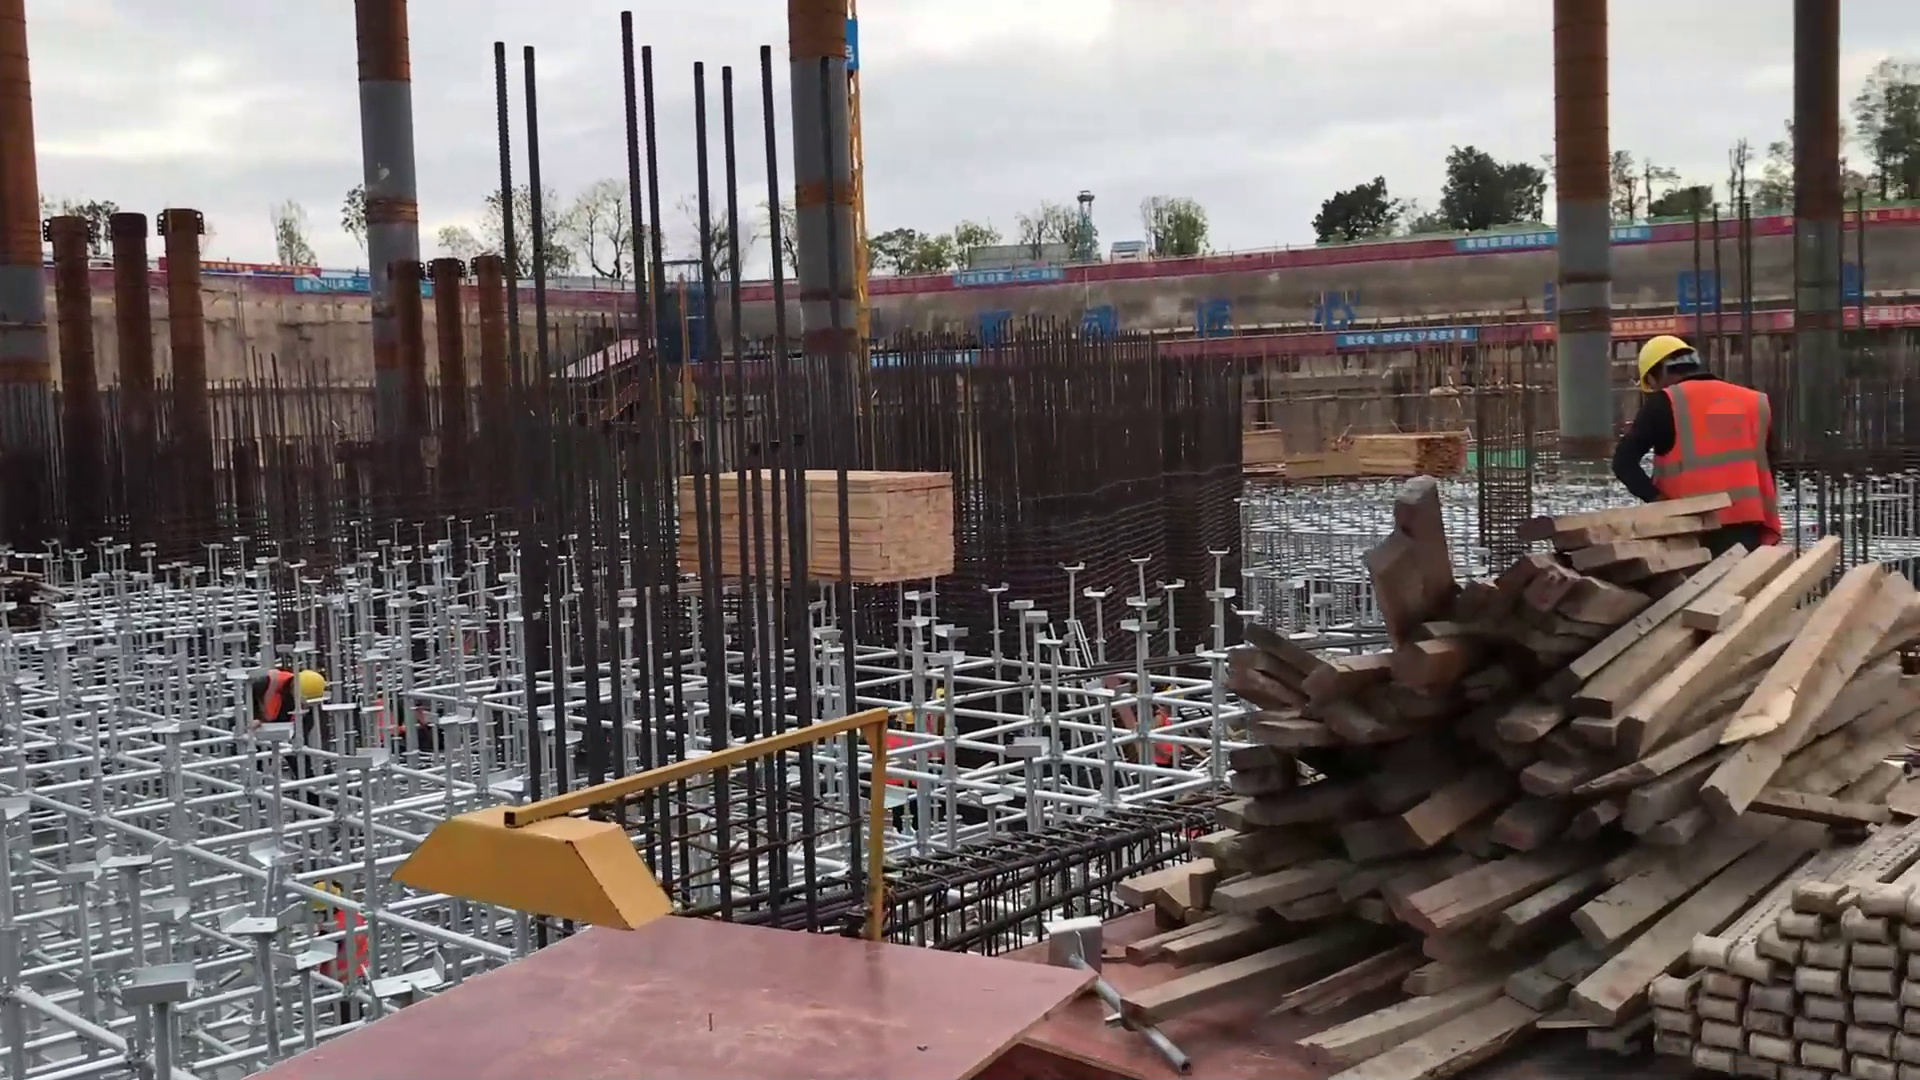helmet: (1640, 334, 1688, 391), (298, 666, 323, 706), (314, 884, 346, 909), (926, 689, 960, 707), (891, 704, 923, 724)
person: (1606, 321, 1803, 578), (243, 657, 322, 813), (311, 869, 377, 1026), (884, 713, 927, 838), (361, 674, 415, 755), (1146, 684, 1189, 773), (924, 679, 959, 754)
vest: (1636, 377, 1778, 547), (262, 669, 301, 776), (890, 726, 914, 802), (1158, 710, 1181, 768), (372, 697, 398, 739), (335, 903, 363, 932), (933, 709, 949, 754)
